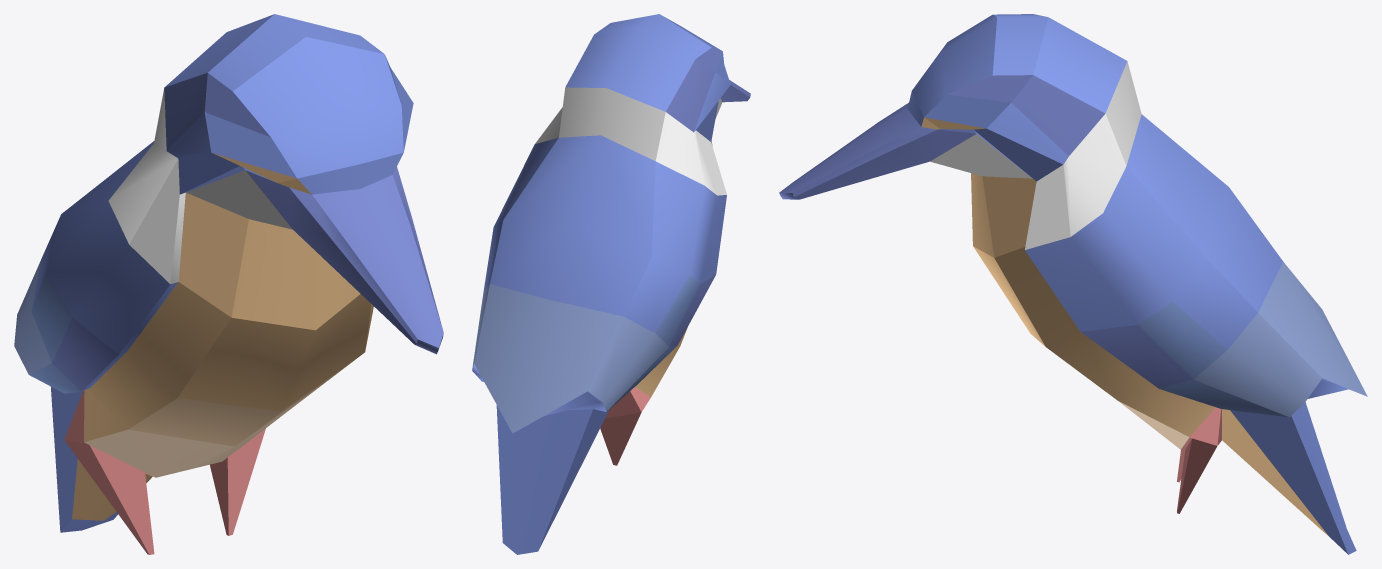
The model's file is atthis.fbx.
The picture shows the model from 3 angles, left to right: view 1: azimuth 30°, elevation 25°; view 2: azimuth 150°, elevation 25°; view 3: azimuth 270°, elevation 25°; orthographic projection. The views are drawn at different scales.
Visible parts, largest first — view 1: pCube1; view 2: pCube1; view 3: pCube1.
Boxes of the visible parts, x1,y1,x2,y2 form: pCube1: (14,14,443,554); pCube1: (472,14,750,554); pCube1: (779,14,1367,554).
Bounding box in the file's own units: 4.17 × 8.81 × 8.78.
